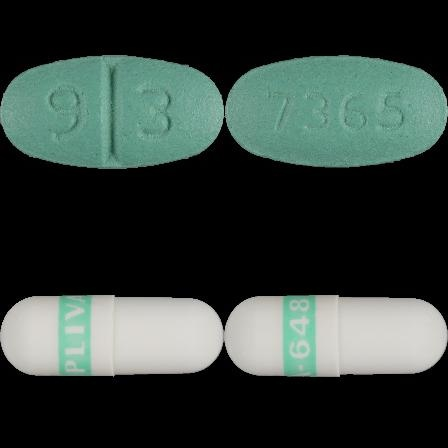66116-452: (0, 0, 224, 224)
